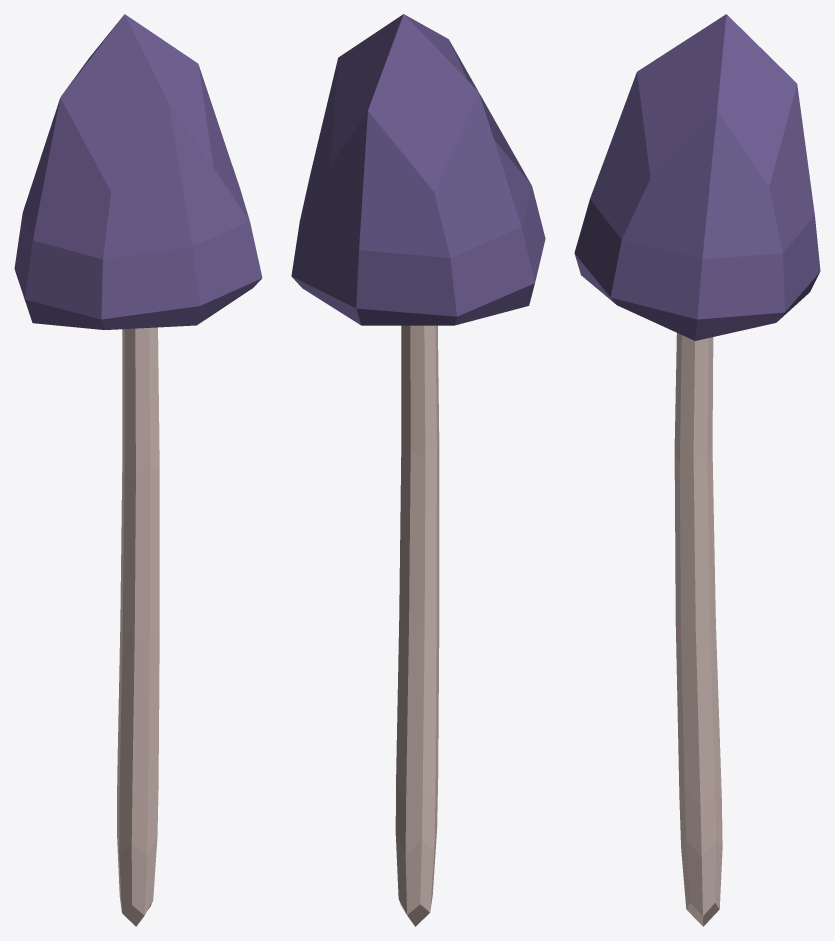
File: MUSH_LONG_PURP.fbx
3 renders of one model, left to right at view 1: azimuth 30°, elevation 25°; view 2: azimuth 150°, elevation 25°; view 3: azimuth 270°, elevation 25°, orthographic.
Visible parts, largest first — view 1: pCube17, pCube18; view 2: pCube17, pCube18; view 3: pCube17, pCube18.
Boxes of the visible parts, <box> form: pCube17: <box>14,14,262,329</box>; pCube18: <box>117,327,159,926</box>; pCube17: <box>291,14,545,325</box>; pCube18: <box>395,325,439,926</box>; pCube17: <box>574,14,820,340</box>; pCube18: <box>674,333,722,926</box>.
Bounding box in the file's own units: 5.66 × 21.36 × 5.22.
